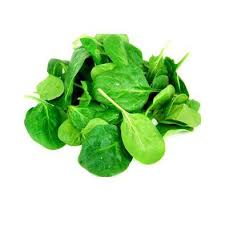spinach: (42, 36, 175, 165)
